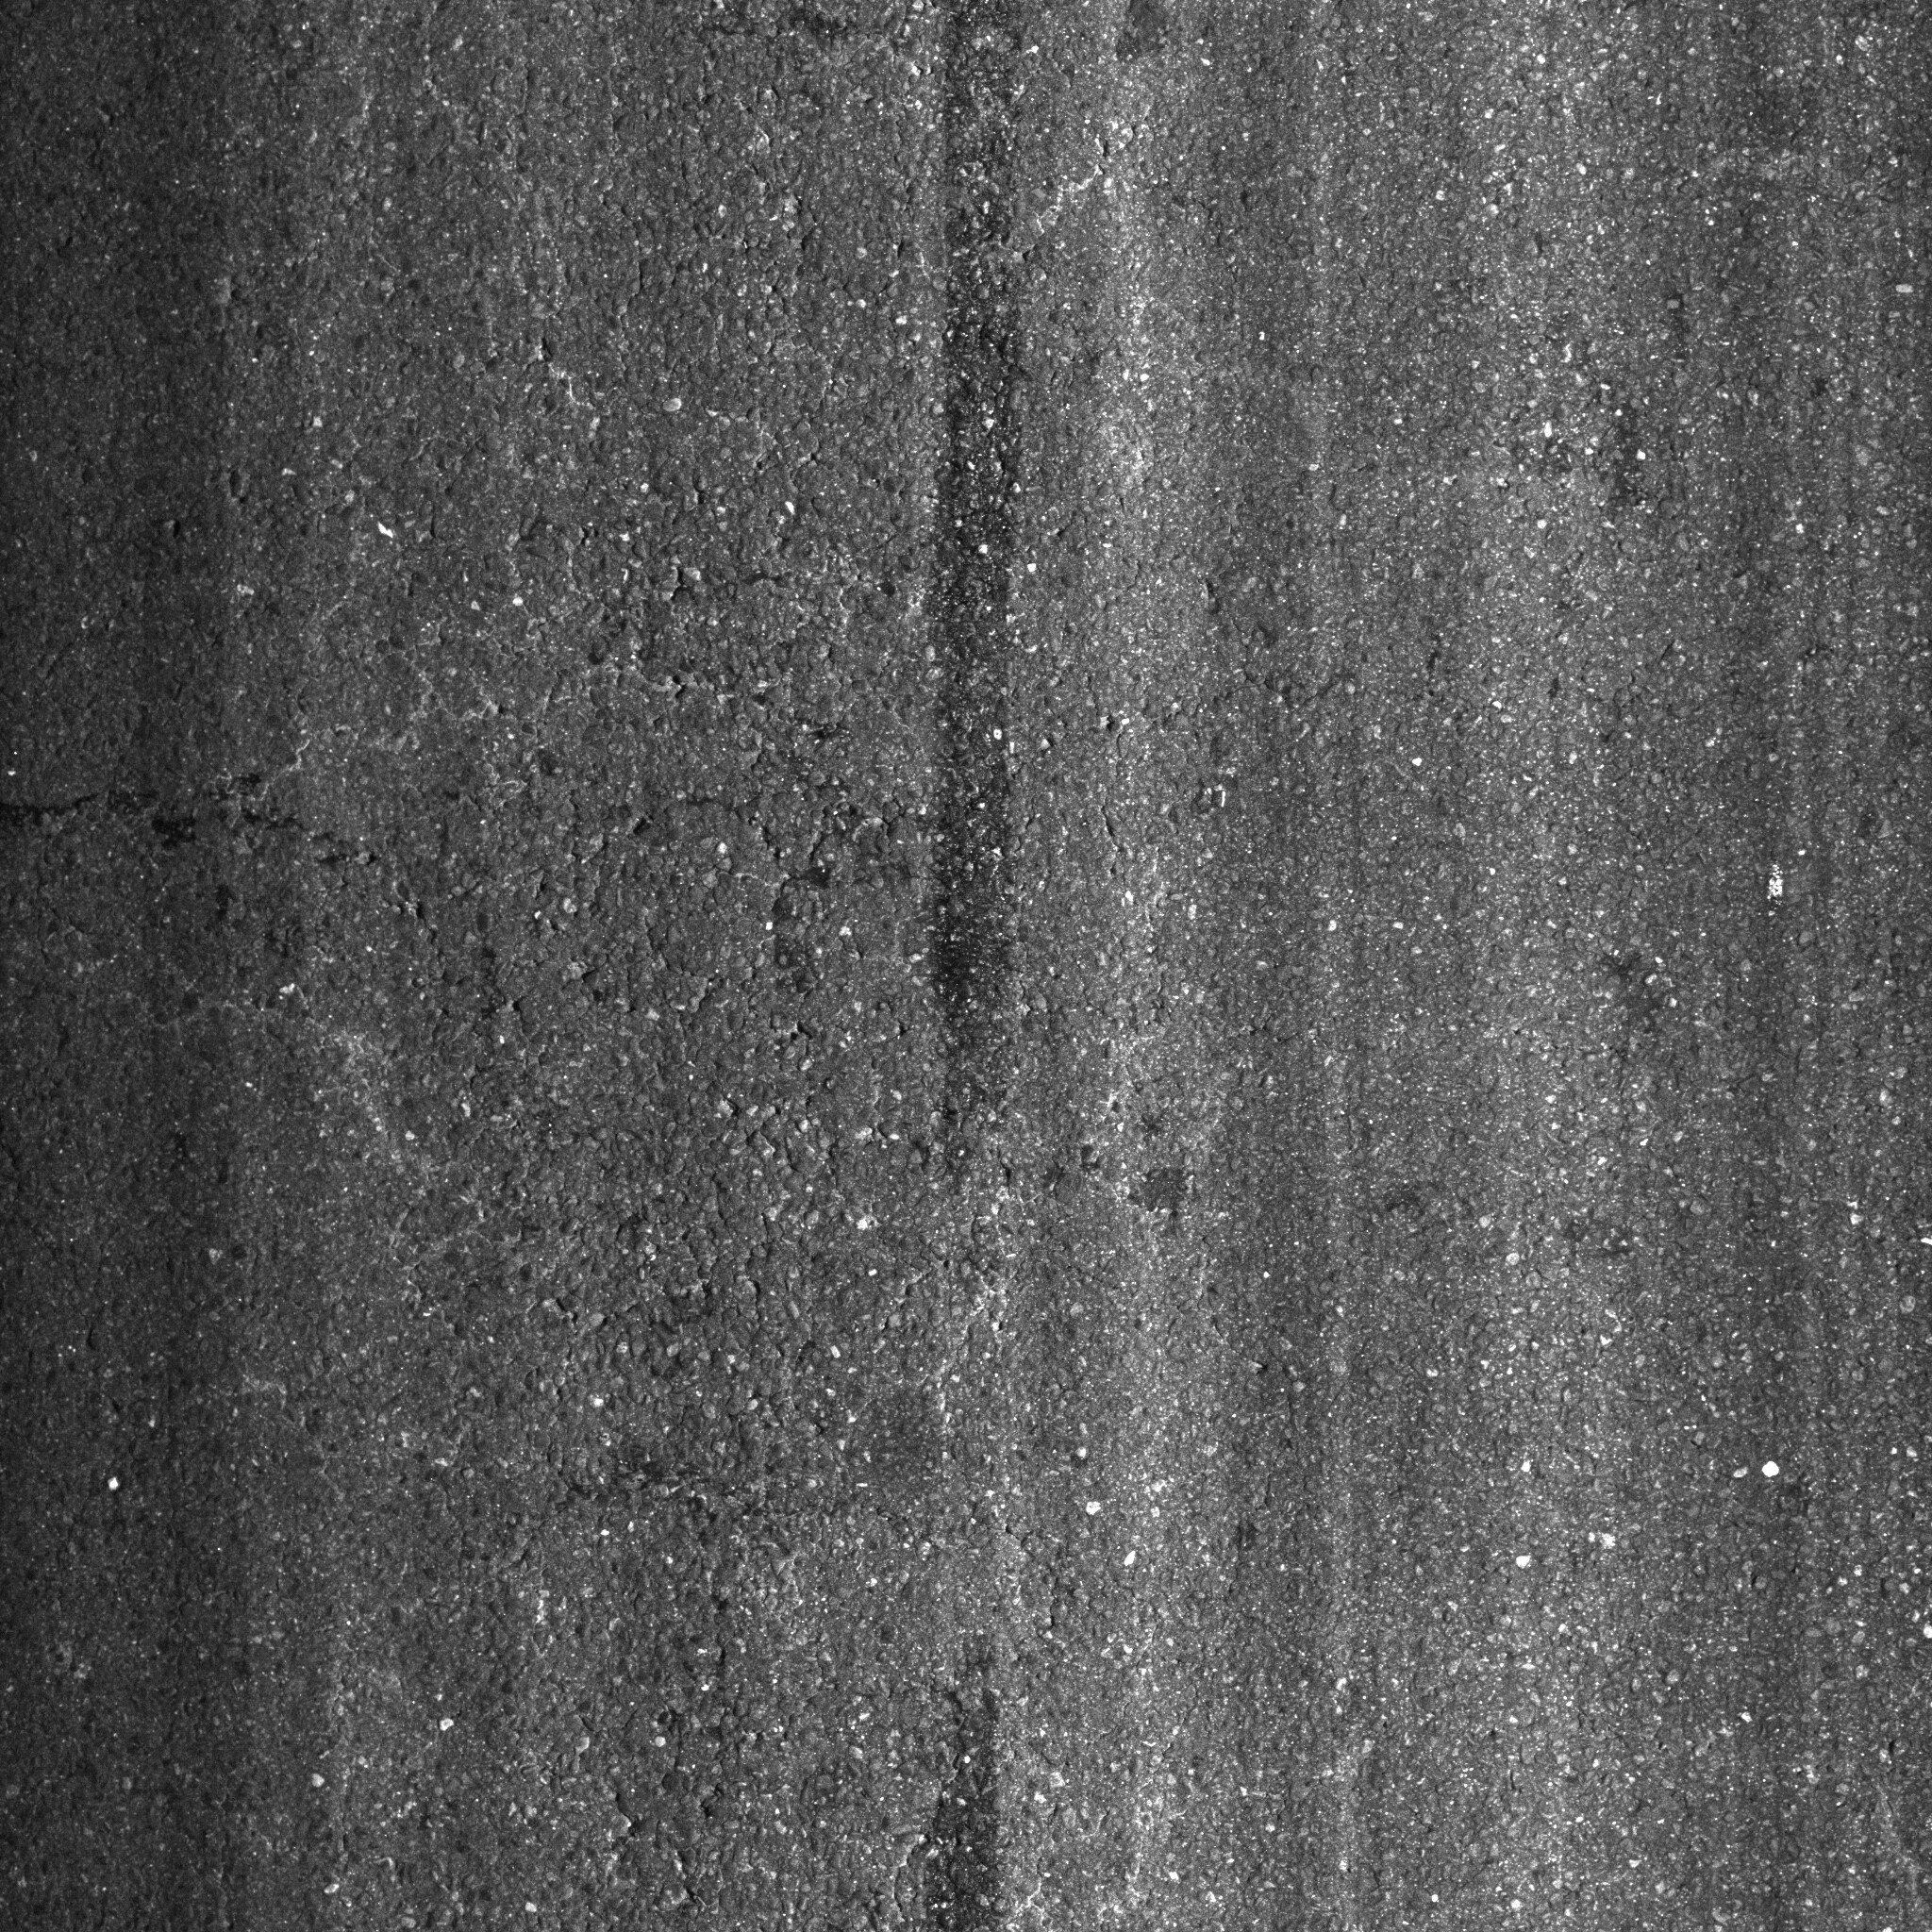alligator: (2, 207, 1090, 1276)
